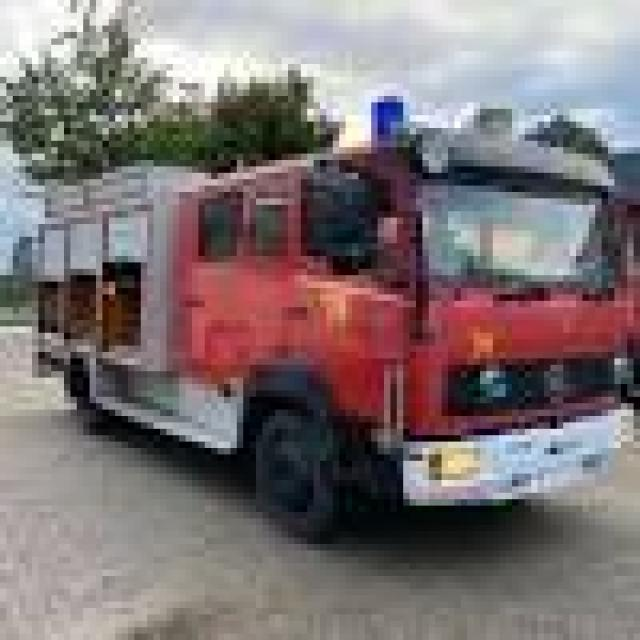pompier: (34, 101, 632, 535)
